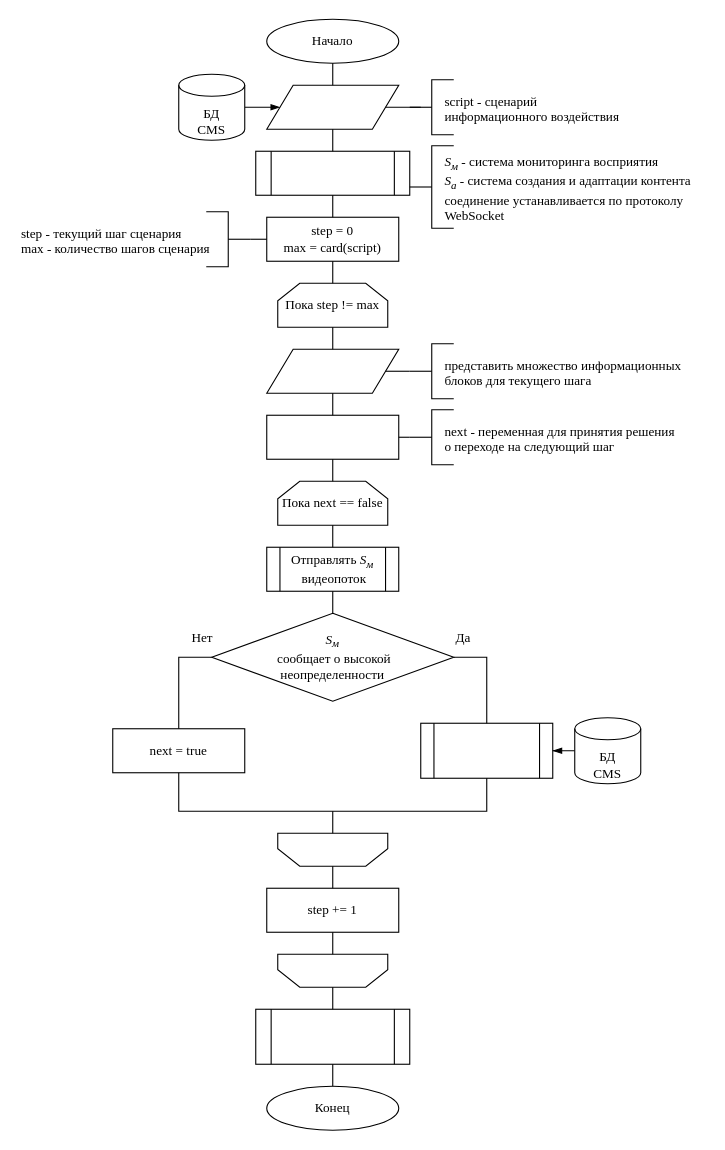
Some shapes in this 725 by 1150 pixel diagram are drawn without their labels. The shapes that lost their labels are listed below. From the top down, each one's centre as x and y in pixels, then its label:
(332,106): script
(332,172): Установить соединение с S м и S а
(332,370): script(step)
(332,436): next = false
(486,750): Получить контент для раскрытия понятий
(332,1036): Закрыть соединение с S м и S а
